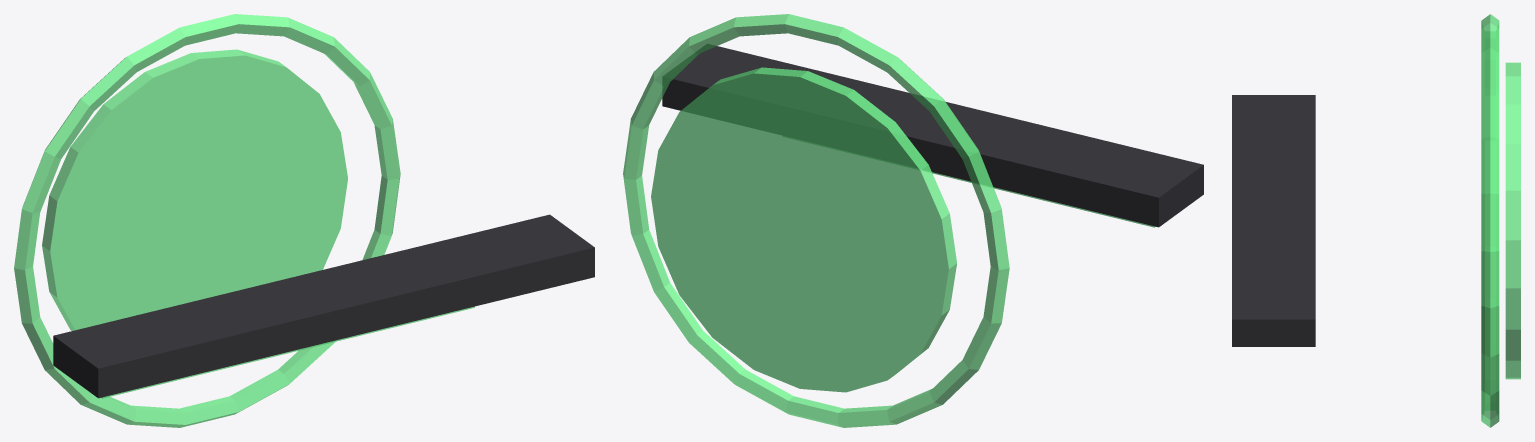
The model's file is boss_health_bar_proxy.glb.
The picture shows the model from 3 angles, left to right: view 1: azimuth 30°, elevation 25°; view 2: azimuth 150°, elevation 25°; view 3: azimuth 270°, elevation 25°; orthographic projection. The views are drawn at different scales.
Visible parts, largest first — view 1: marker_disc, ui_frame, marker_ring, ui_fill; view 2: marker_disc, ui_frame, marker_ring; view 3: ui_frame, marker_ring, marker_disc.
Boxes of the visible parts, left/top/right/bottom form: marker_disc: left=42, top=49, right=347, bottom=330; ui_frame: left=53, top=214, right=594, bottom=398; marker_ring: left=14, top=14, right=400, bottom=427; ui_fill: left=101, top=306, right=474, bottom=398; marker_disc: left=651, top=67, right=956, bottom=392; ui_frame: left=662, top=44, right=1203, bottom=227; marker_ring: left=623, top=14, right=1009, bottom=427; ui_frame: left=1232, top=95, right=1315, bottom=346; marker_ring: left=1481, top=14, right=1499, bottom=427; marker_disc: left=1505, top=62, right=1520, bottom=379.
Bounding box in the file's own units: 1.4 × 1.08 × 0.76.
